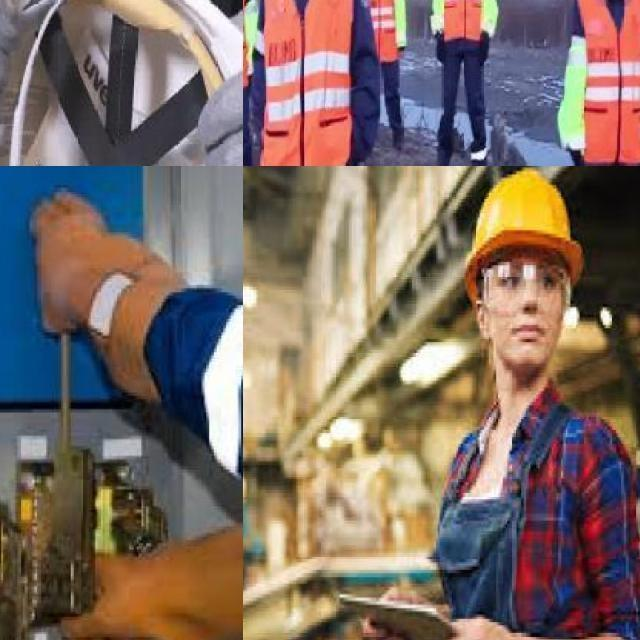apron: (20, 180, 171, 396), (74, 519, 243, 640), (567, 145, 581, 166)
